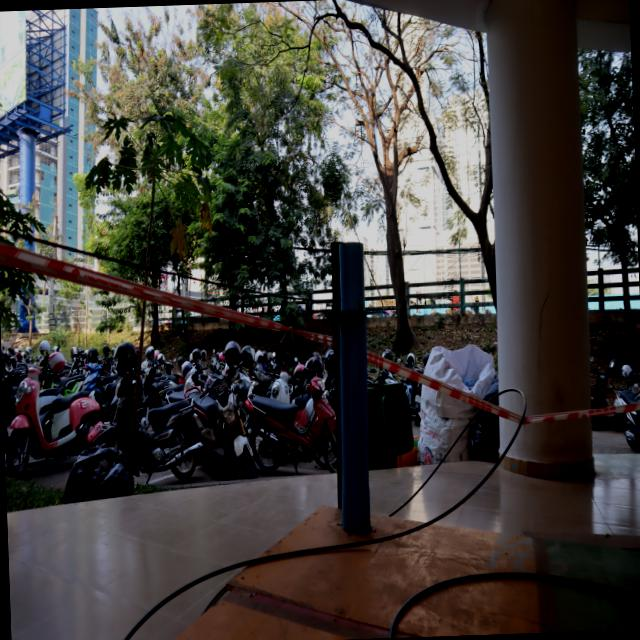pole: (318, 236, 382, 372)
